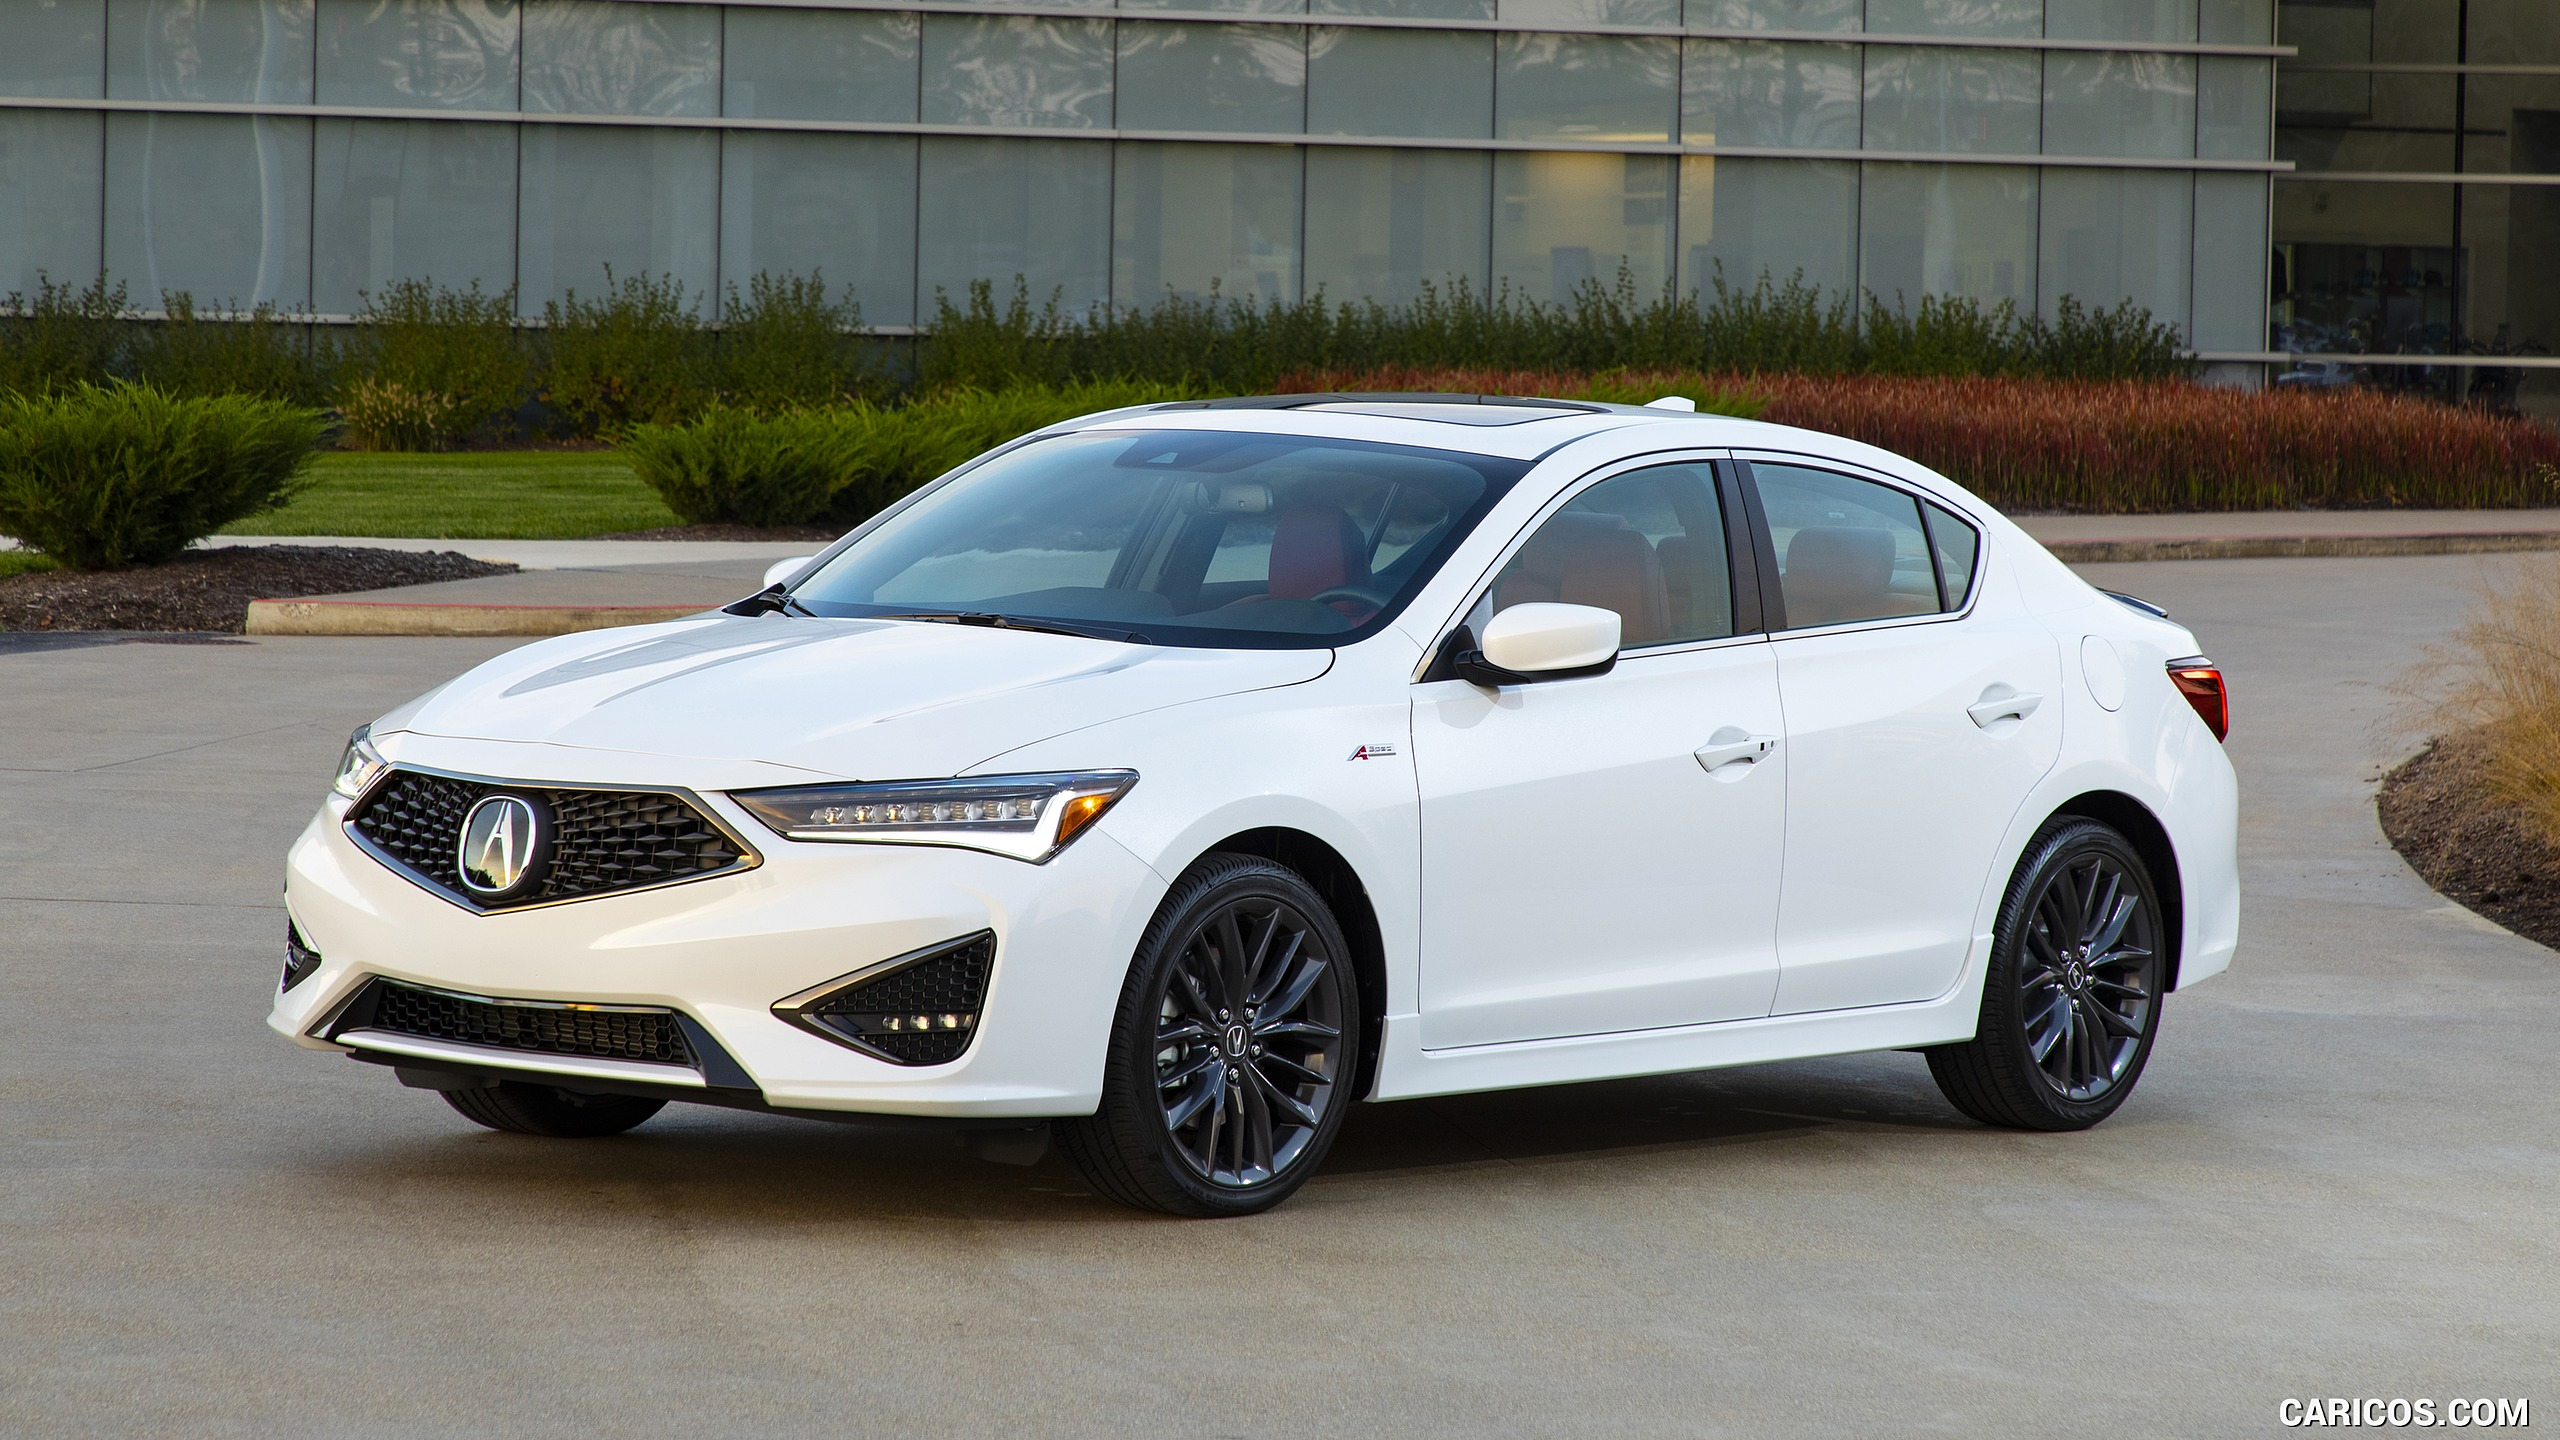Fog Lamp & Scope: (826, 935, 988, 1058)
Front: (239, 652, 1336, 1120)
Front Bumper: (257, 913, 1134, 1111)
Grill: (382, 767, 724, 902)
Headlight: (767, 767, 1148, 853)
